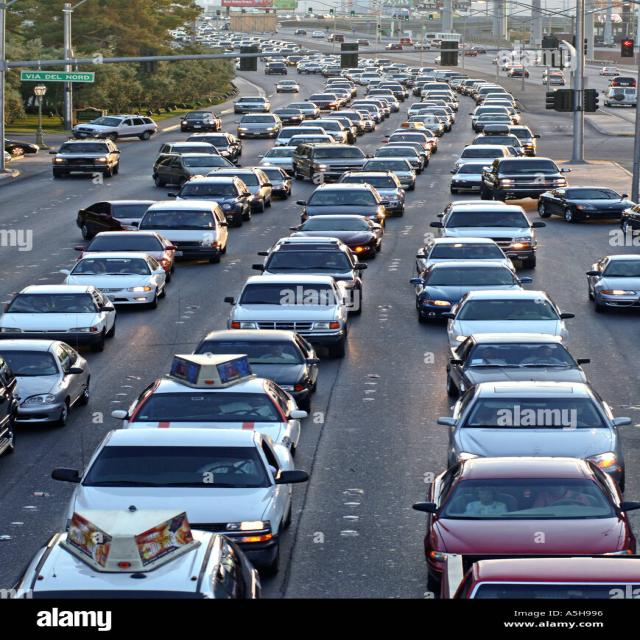vehicle: (35, 513, 298, 640), (84, 426, 295, 556), (424, 461, 640, 569), (134, 356, 317, 441), (433, 387, 640, 455), (227, 272, 380, 357), (31, 228, 174, 306), (0, 332, 103, 438), (96, 194, 259, 260), (435, 342, 614, 397), (0, 277, 124, 344), (206, 324, 318, 397), (439, 299, 591, 339), (433, 199, 551, 247), (253, 238, 367, 276), (476, 161, 594, 196), (280, 219, 418, 248), (293, 182, 398, 219), (44, 139, 133, 182), (586, 242, 640, 310), (543, 182, 640, 218), (87, 108, 162, 146), (408, 243, 520, 264), (415, 271, 539, 289), (596, 69, 640, 110), (182, 176, 255, 198), (238, 112, 288, 143), (371, 149, 433, 173), (473, 125, 546, 145), (508, 61, 560, 88), (180, 105, 225, 135), (383, 124, 440, 145), (461, 142, 513, 164), (480, 92, 529, 113), (327, 109, 370, 130), (355, 82, 399, 101), (256, 58, 300, 77), (420, 88, 465, 106), (271, 76, 301, 100), (414, 110, 454, 127), (473, 115, 523, 127), (464, 82, 499, 90), (488, 97, 503, 104)
